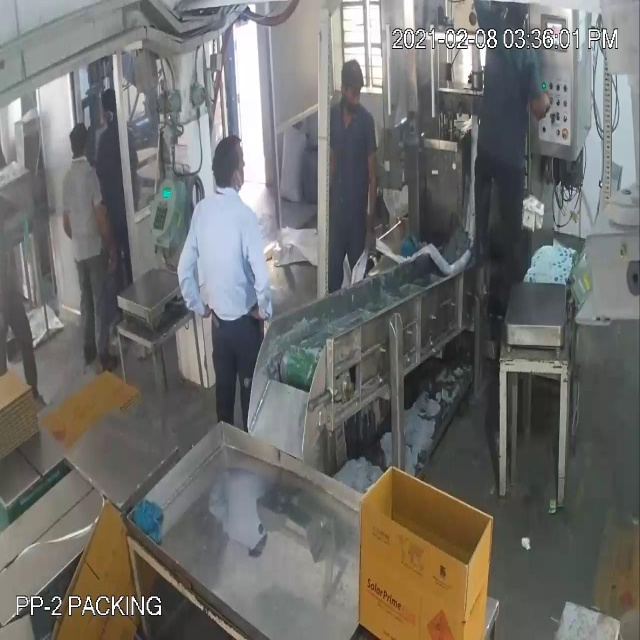Sin_guantes: (173, 215, 210, 321), (86, 188, 125, 280), (361, 134, 388, 252), (242, 220, 270, 328), (521, 54, 552, 126)
